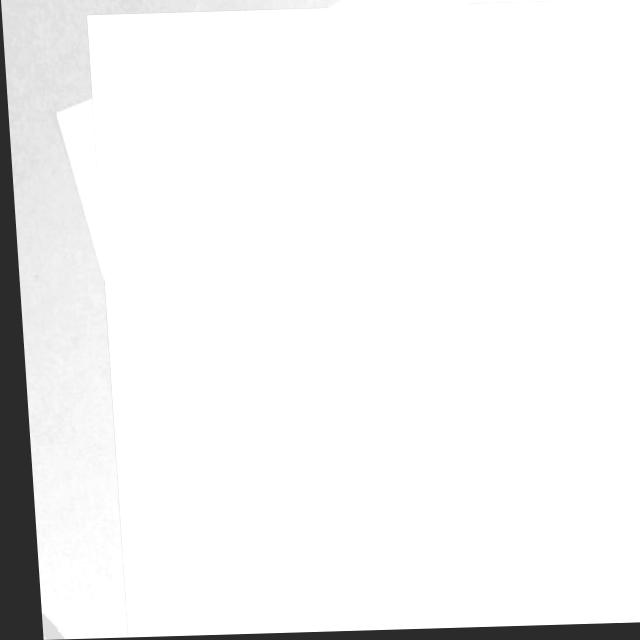qr_code: (86, 5, 584, 638)
